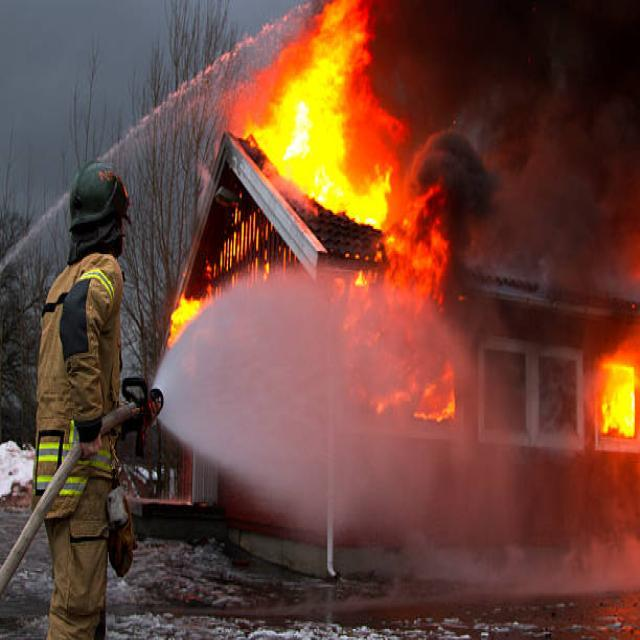Fire: (275, 35, 368, 198)
